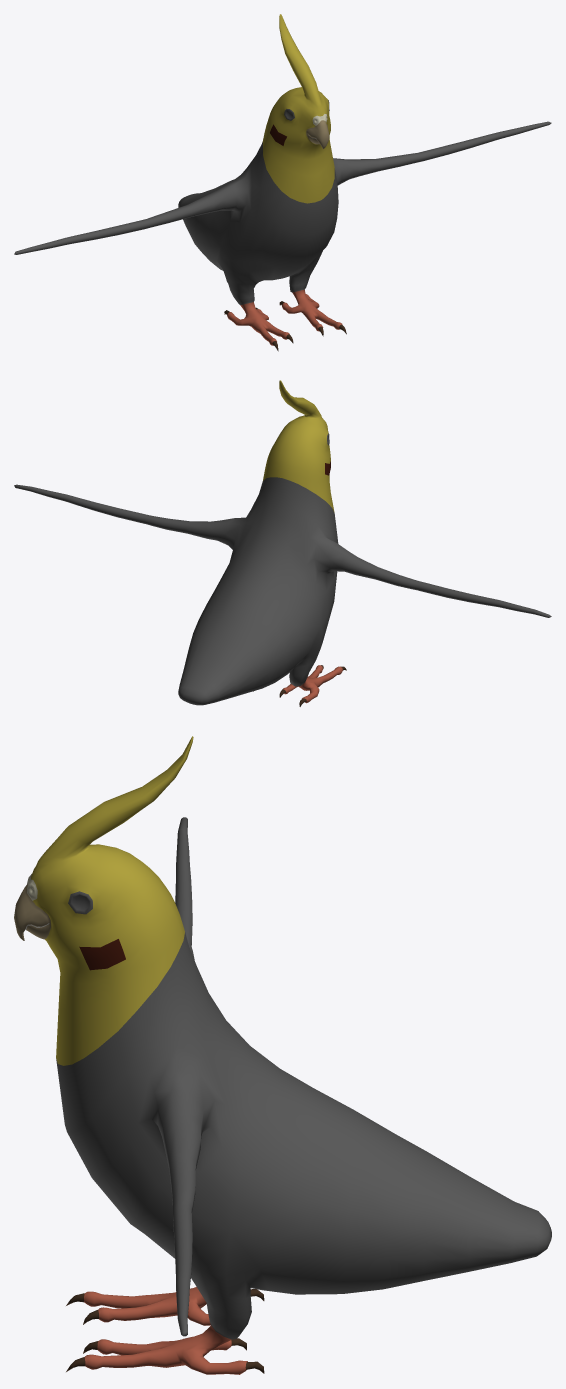
File: cockatiel_cockatiel.obj
3 views of the same model, one above another, from view 1: azimuth 30°, elevation 25°; view 2: azimuth 150°, elevation 25°; view 3: azimuth 270°, elevation 25° (orthographic). The views are drawn at different scales.
Parts seen in each view (by area): view 1: cockatiel; view 2: cockatiel; view 3: cockatiel.
Part boxes in pixels (bbox=[...]): cockatiel: bbox=[14, 14, 551, 351]; cockatiel: bbox=[14, 380, 551, 706]; cockatiel: bbox=[14, 736, 551, 1374].
Bounding box in the file's own units: 0.3779 × 0.2053 × 0.1658.
